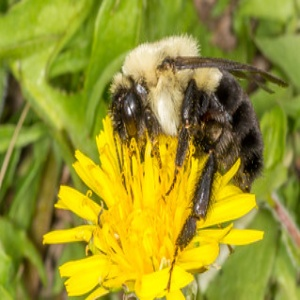bee: (108, 34, 290, 238)
